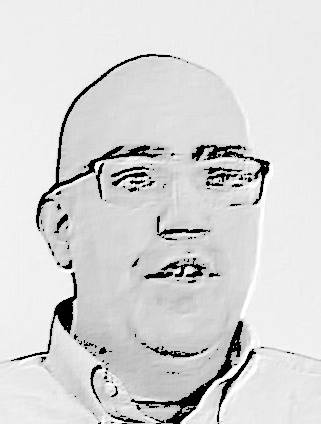nose_M_C: (152, 182, 217, 251)
